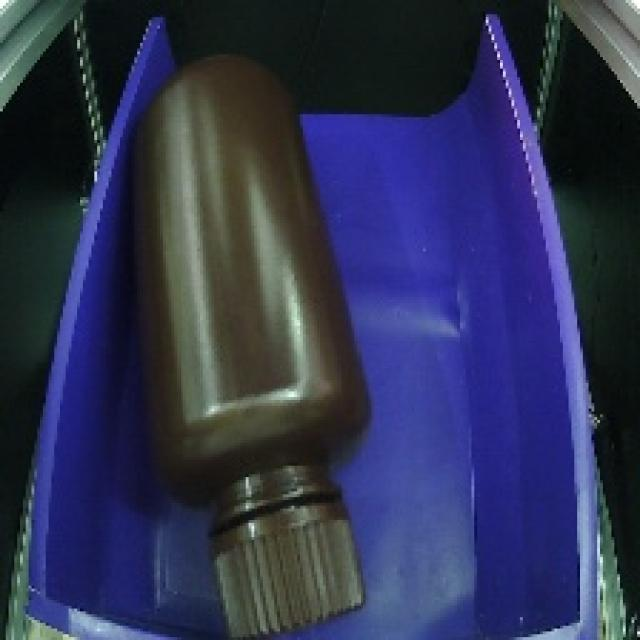plastic: (94, 33, 387, 640)
